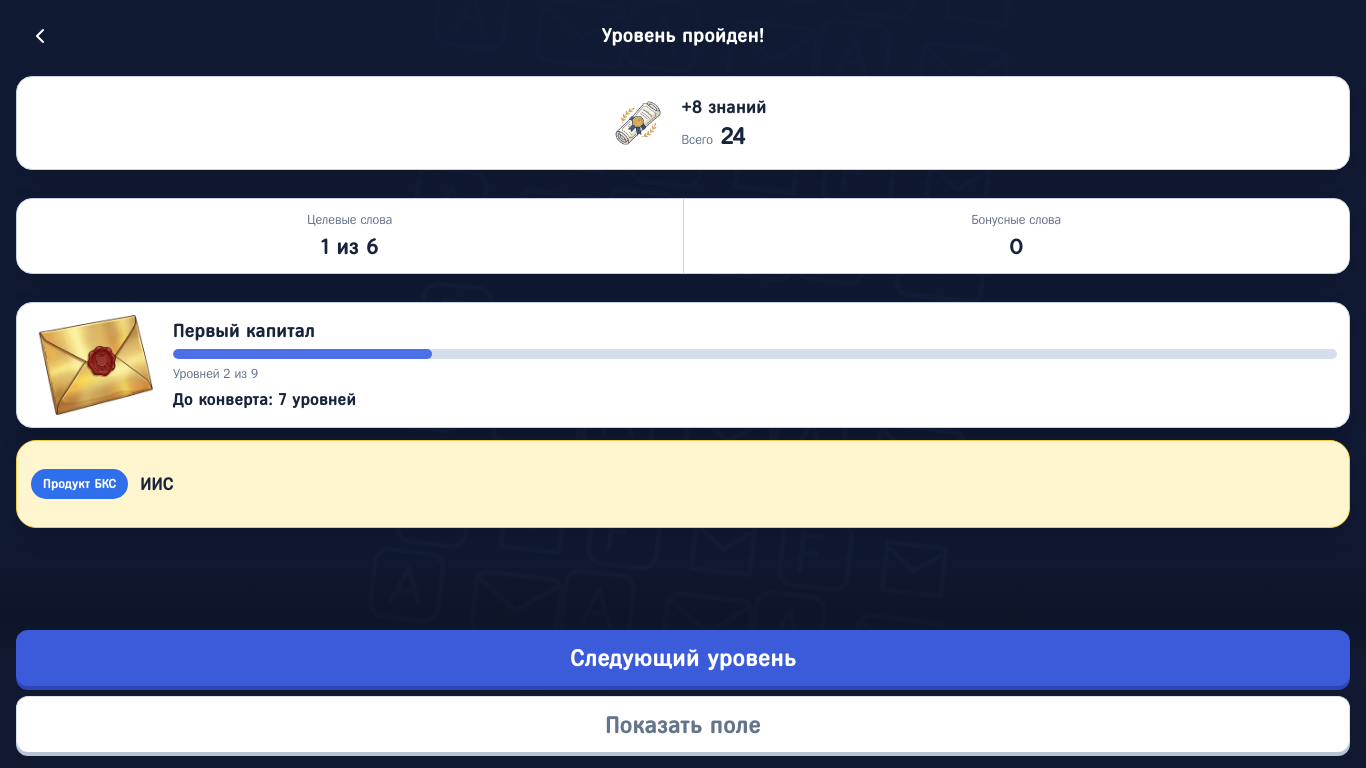
Test: P4 Results state machine › Field Review открывает любую найденную клетку и не рендерит folded-corner marker
The image size is (1366, 768).
Expected: the button "Продукт БКС ИИС" is shown, [16,440,1350,528]
Click the button "Показать поле" at (683, 724), box [16,696,1350,752]
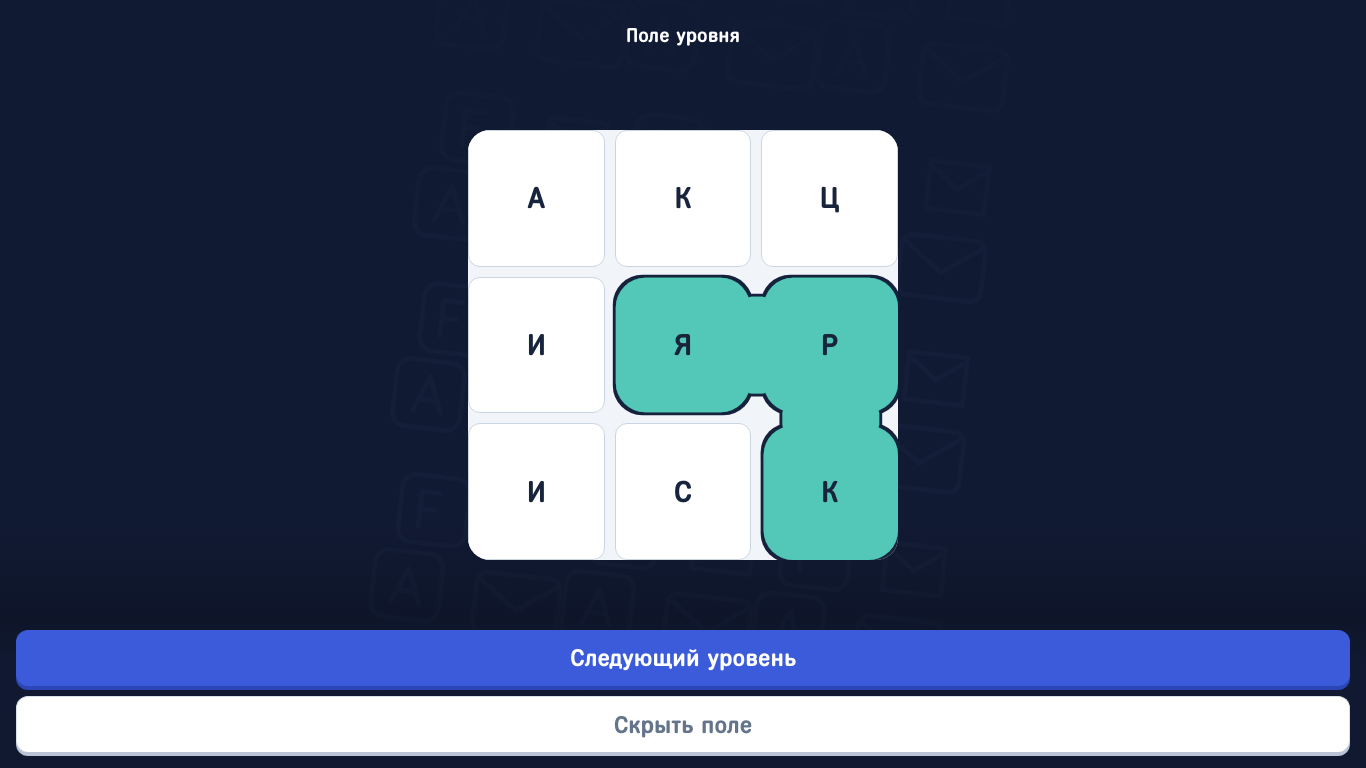
Click the button named "Р, строка 2, столбец 3. Найденное слово ИИС. Открыть информацию" at (830, 345), box [761,277,898,413]
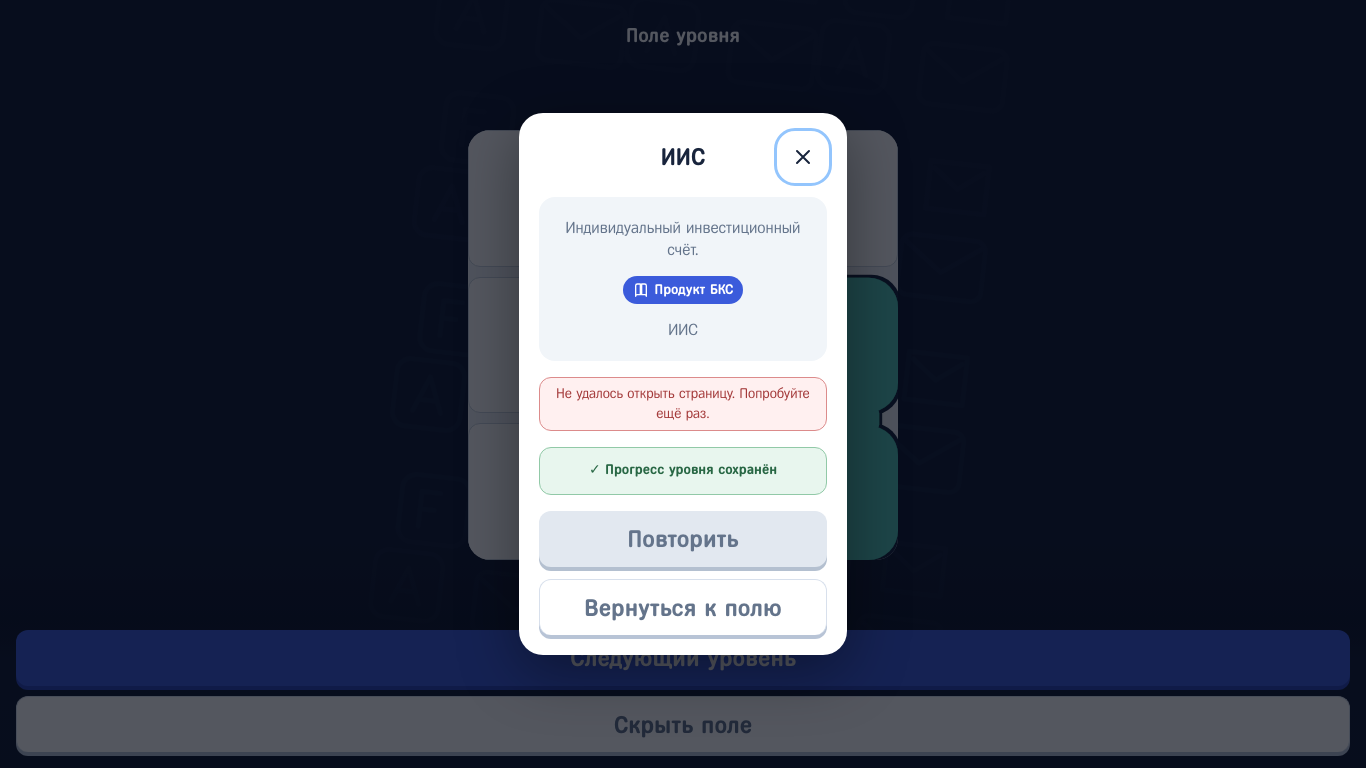
Result: the dialog "ИИС" shows "Продукт БКС" at [654,282,733,297]
